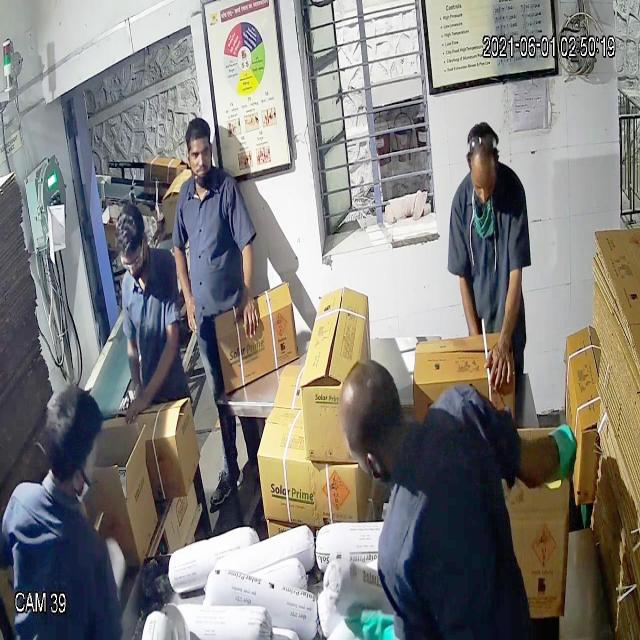glasses: (117, 245, 149, 280)
no-glass: (178, 132, 216, 166), (467, 169, 499, 199)
